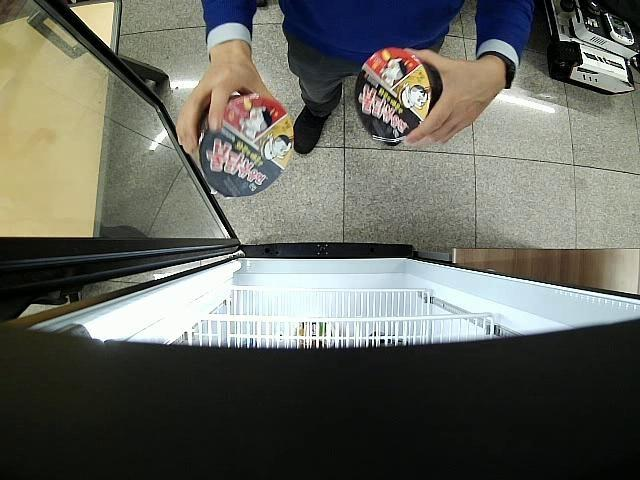07_buldak_L: (198, 92, 294, 198), (355, 48, 442, 147)
